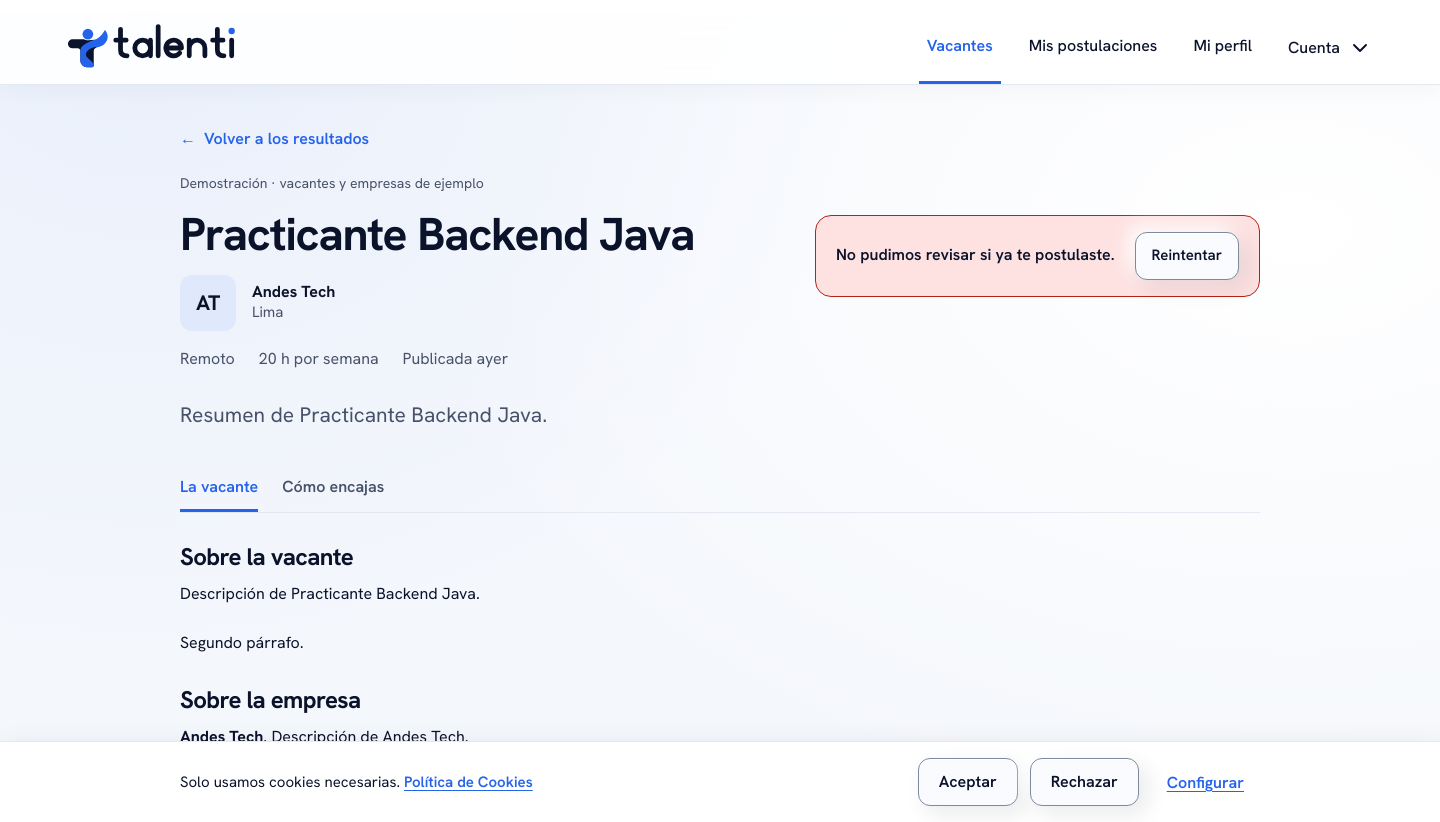
Test: Review before applying (008-14 to 008-17, redesign E5) › a failed duplicate check can be retried without a misleading action
Check: the heading "Practicante Backend Java" is shown, box 180,204 -> 694,264
Click the button "Reintentar".
click(1187, 256)  # box 1134,232 -> 1239,280
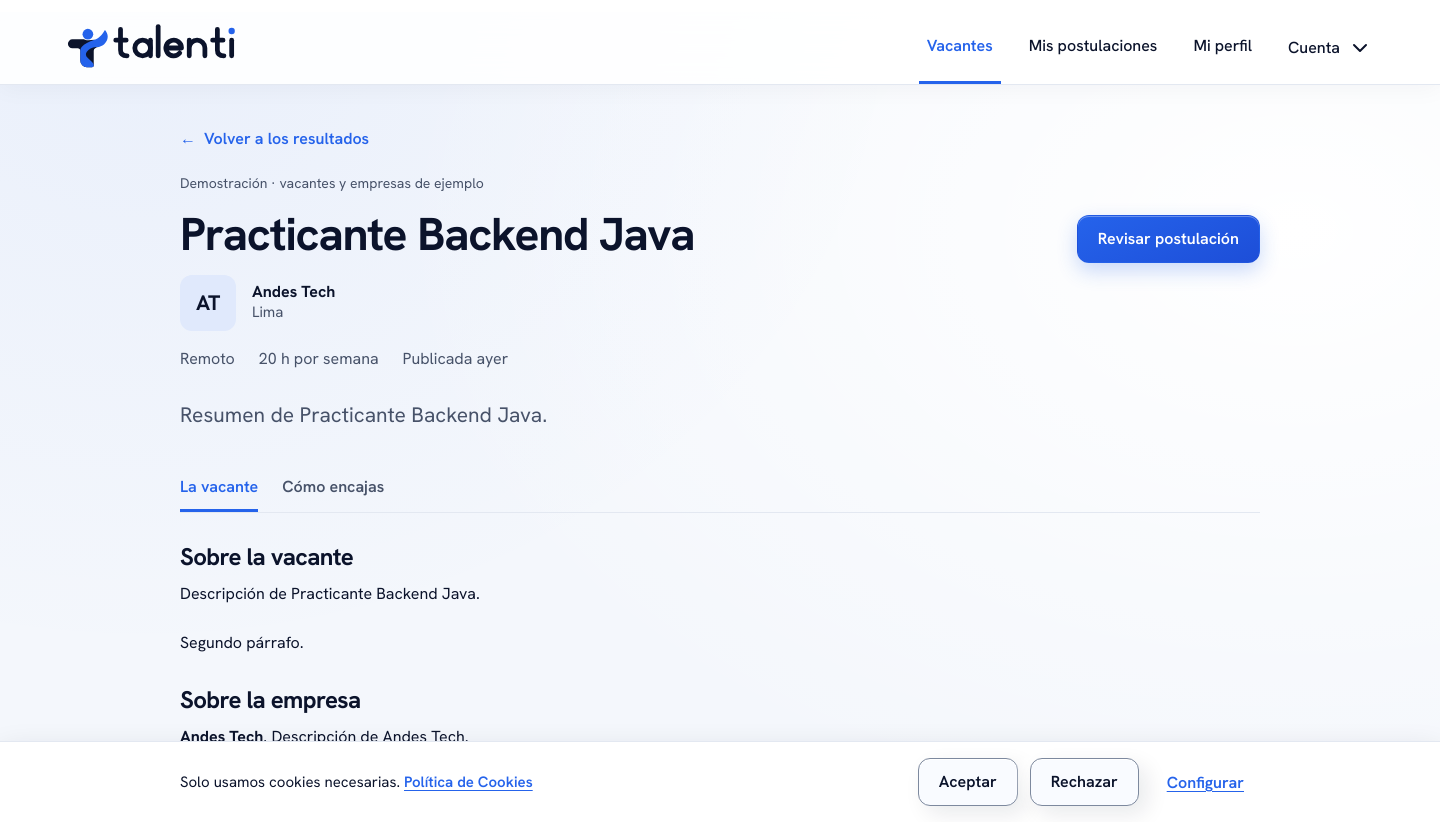
Check: the link "Revisar postulación" is shown, box 1077,215 -> 1260,263
